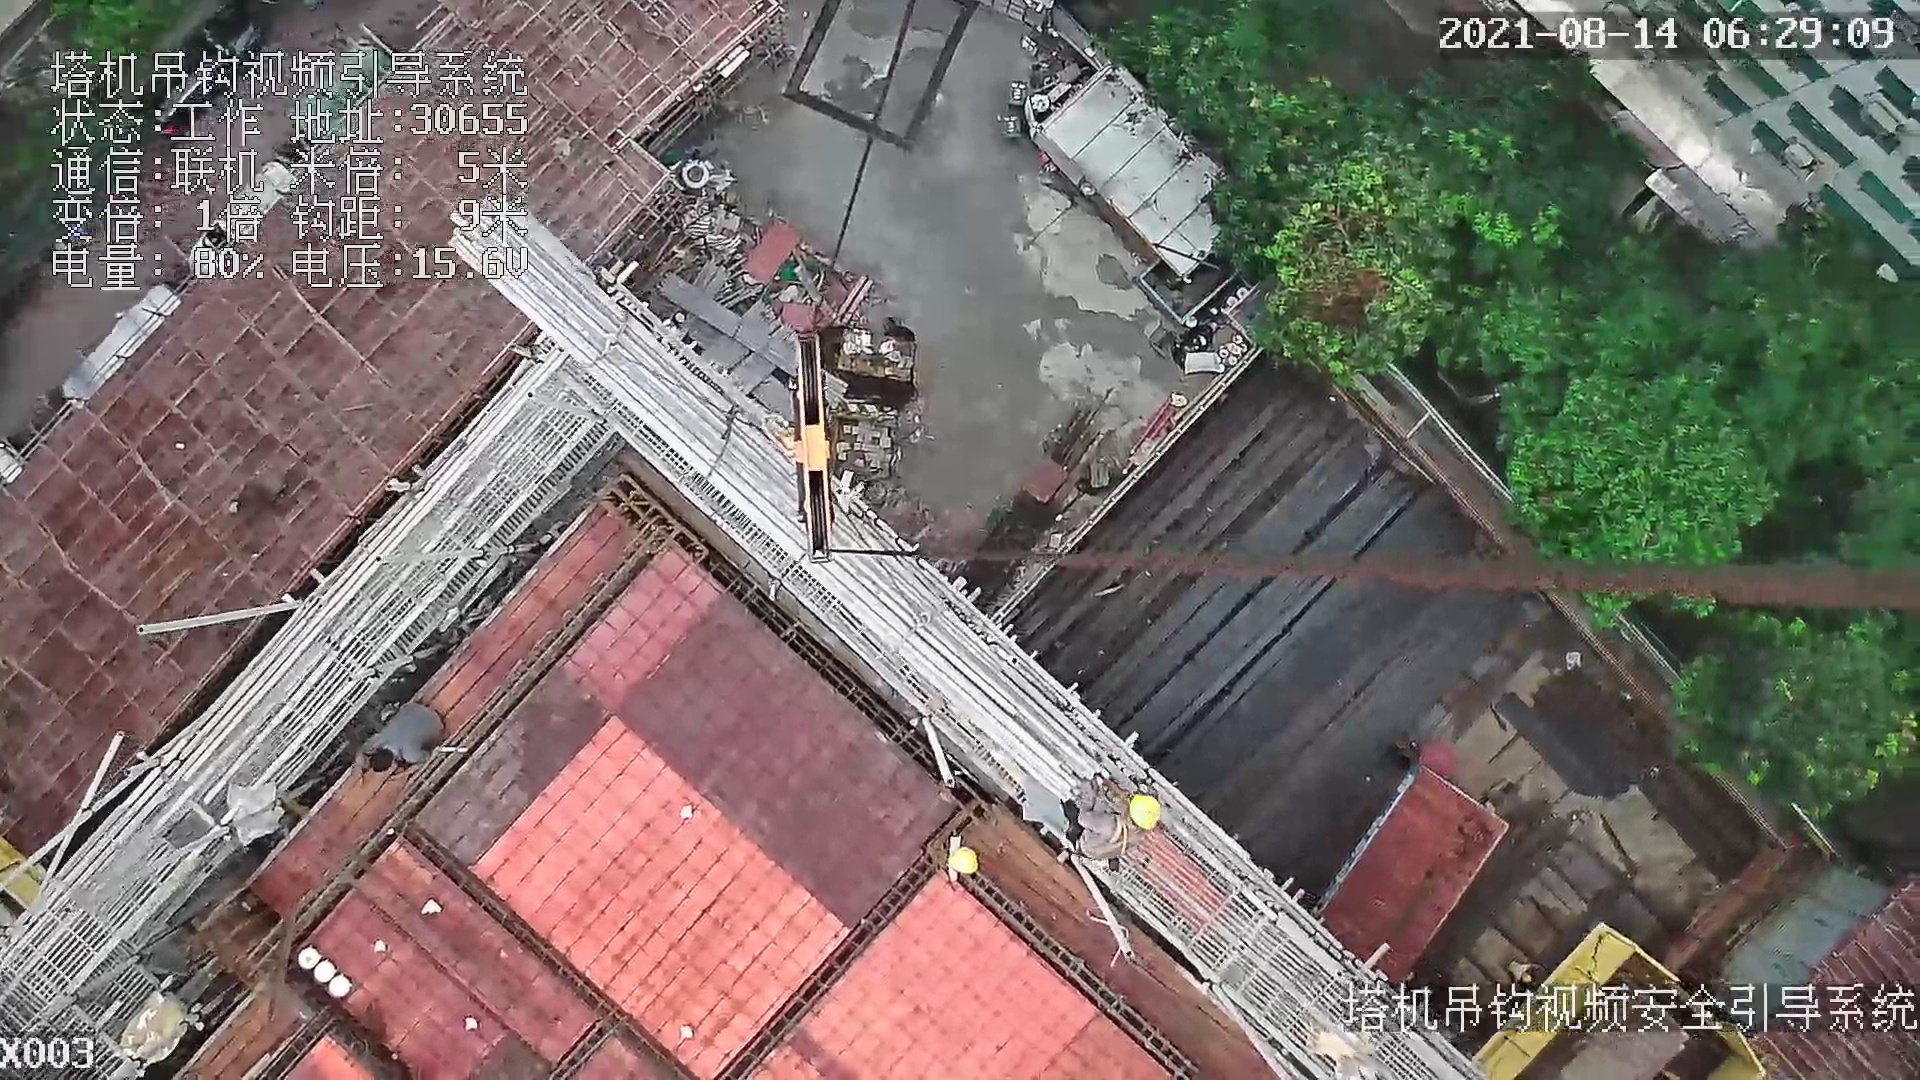helmet: (1120, 787, 1168, 835), (951, 849, 981, 887)
hook: (787, 330, 835, 563)
person: (1060, 760, 1173, 871)
rebar: (1053, 381, 1491, 769)
